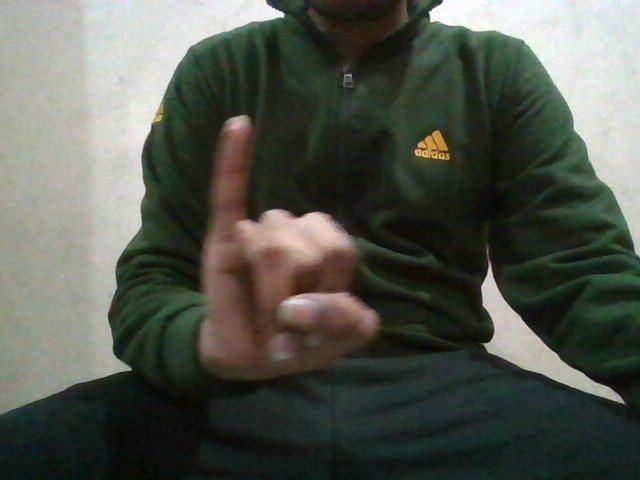I: (190, 112, 392, 376)
